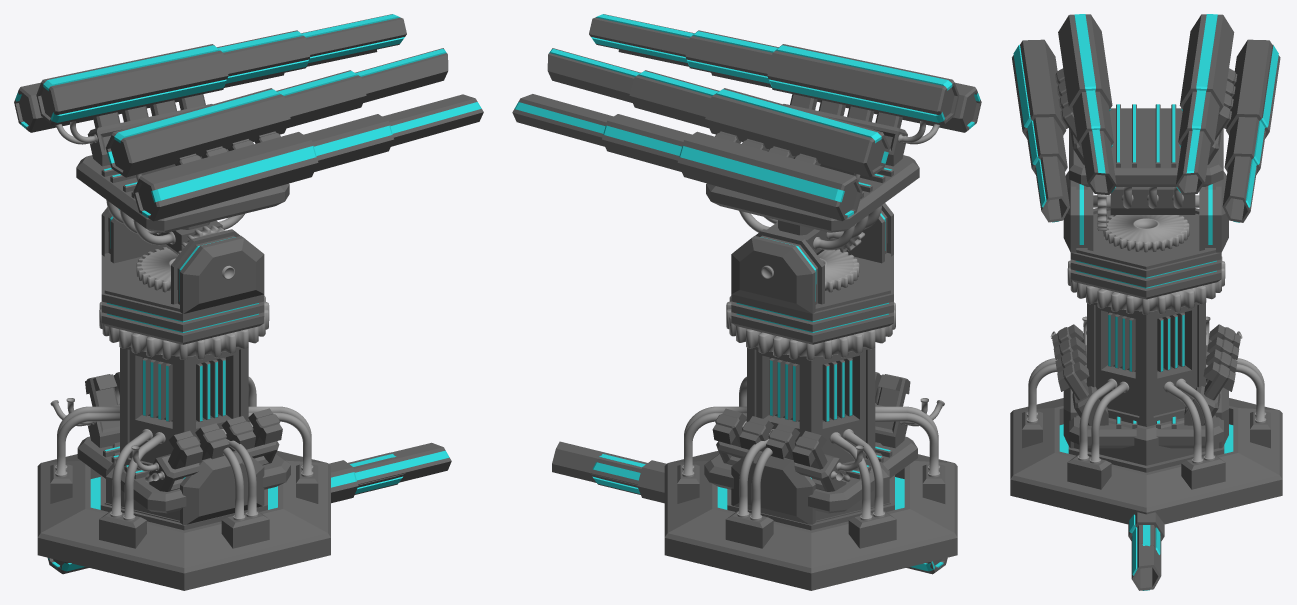
The model's file is Turret.glb.
3 views of the same model, side by side, from view 1: azimuth 30°, elevation 25°; view 2: azimuth 150°, elevation 25°; view 3: azimuth 270°, elevation 25° (orthographic). The views are drawn at different scales.
Parts seen in each view (by area): view 1: Turret_Base, Turret_Mid_Section, Verticle_Gear.002, Right_Mid_Cannon_01, Left_Cannon_01, Left_Mid_Cannon_01, Top_Platform, Turret_Mid_Section.001, Right_Mid_Cannon_02, Right_Mid_Cannon_03, Left_Mid_Cannon_02, Left_Cannon_02 (+14 smaller); view 2: Turret_Base, Turret_Mid_Section, Verticle_Gear.002, Left_Mid_Cannon_01, Right_Cannon_01, Right_Mid_Cannon_01, Top_Platform, Turret_Mid_Section.001, Left_Mid_Cannon_02, Left_Mid_Cannon_03, Right_Cannon_02, Right_Mid_Cannon_02 (+16 smaller); view 3: Turret_Base, Turret_Mid_Section, Verticle_Gear.002, Top_Platform, Left_Mid_Cannon_01, Right_Mid_Cannon_01, Right_Cannon_01, Left_Cannon_01, Main_Gear, Turning_Gear, Left_Cannon_03, Right_Cannon_03 (+18 smaller).
Part boxes in pixels (<box>): Turret_Base: <box>37,346,330,590</box>; Turret_Mid_Section: <box>101,207,264,344</box>; Verticle_Gear.002: <box>50,372,290,513</box>; Right_Mid_Cannon_01: <box>36,44,228,125</box>; Left_Cannon_01: <box>133,132,318,221</box>; Left_Mid_Cannon_01: <box>106,88,290,177</box>; Top_Platform: <box>76,149,289,232</box>; Turret_Mid_Section.001: <box>104,404,264,524</box>; Right_Mid_Cannon_02: <box>217,30,310,85</box>; Right_Mid_Cannon_03: <box>301,14,406,63</box>; Left_Mid_Cannon_02: <box>276,70,366,128</box>; Left_Cannon_02: <box>304,114,393,171</box>; Turret_Base: <box>664,347,957,590</box>; Turret_Mid_Section: <box>731,203,893,344</box>; Verticle_Gear.002: <box>704,372,944,513</box>; Left_Mid_Cannon_01: <box>767,44,959,125</box>; Right_Cannon_01: <box>677,131,862,221</box>; Right_Mid_Cannon_01: <box>705,88,889,177</box>; Top_Platform: <box>706,149,919,232</box>; Turret_Mid_Section.001: <box>731,403,890,524</box>; Left_Mid_Cannon_02: <box>685,30,778,85</box>; Left_Mid_Cannon_03: <box>589,14,694,63</box>; Right_Cannon_02: <box>602,114,691,171</box>; Right_Mid_Cannon_02: <box>629,70,719,128</box>; Turret_Base: <box>1010,302,1282,524</box>; Turret_Mid_Section: <box>1063,171,1228,299</box>; Verticle_Gear.002: <box>1050,316,1242,448</box>; Top_Platform: <box>1069,104,1223,186</box>; Left_Mid_Cannon_01: <box>1058,14,1112,113</box>; Right_Mid_Cannon_01: <box>1179,14,1234,113</box>; Right_Cannon_01: <box>1226,39,1280,138</box>; Left_Cannon_01: <box>1012,39,1066,138</box>; Main_Gear: <box>1067,256,1225,314</box>; Turning_Gear: <box>1103,215,1189,252</box>; Left_Cannon_03: <box>1035,156,1069,222</box>; Right_Cannon_03: <box>1222,156,1257,222</box>.
Bounding box in the file's own units: 6.36 × 6.95 × 3.98.
